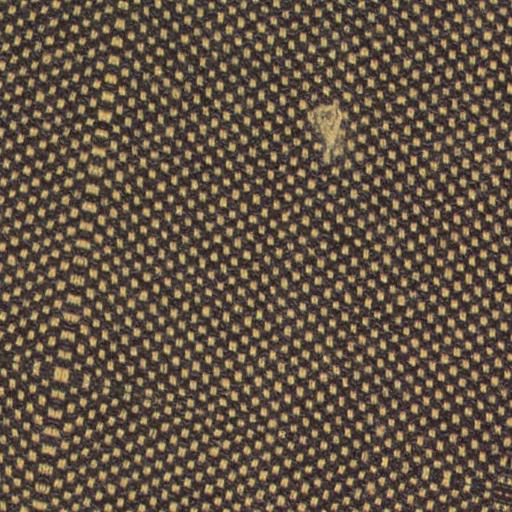knot: (291, 97, 362, 171)
